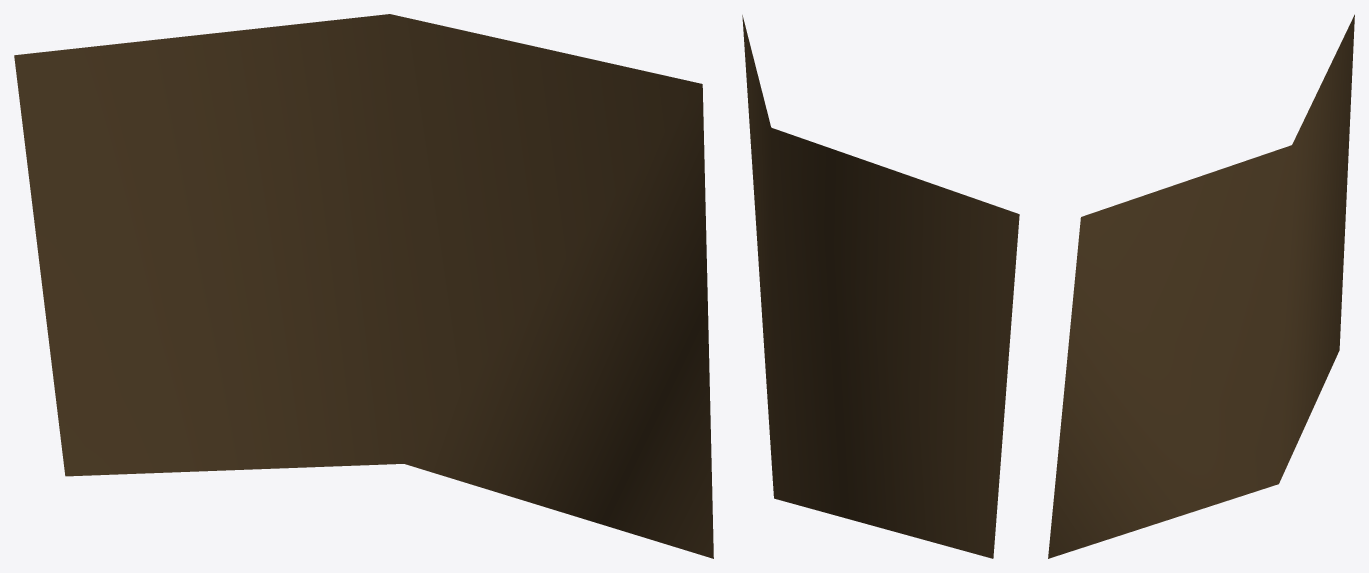
The model's file is SWORDLIGHT20_PS-AREA03_196.fbx.
3 views of the same model, side by side, from view 1: azimuth 30°, elevation 25°; view 2: azimuth 150°, elevation 25°; view 3: azimuth 270°, elevation 25° (orthographic). The views are drawn at different scales.
Visible parts, largest first — view 1: SWORDLIGHT20_PS-AREA03_196; view 2: SWORDLIGHT20_PS-AREA03_196; view 3: SWORDLIGHT20_PS-AREA03_196.
Part boxes in pixels (box(x1,y1,x2,y2)): SWORDLIGHT20_PS-AREA03_196: box(14, 14, 713, 558); SWORDLIGHT20_PS-AREA03_196: box(742, 15, 1019, 558); SWORDLIGHT20_PS-AREA03_196: box(1048, 14, 1354, 558).
Size of the model in its own units: 60794 by 54545 by 42011.
Materials: 1 (1 with a texture image).
